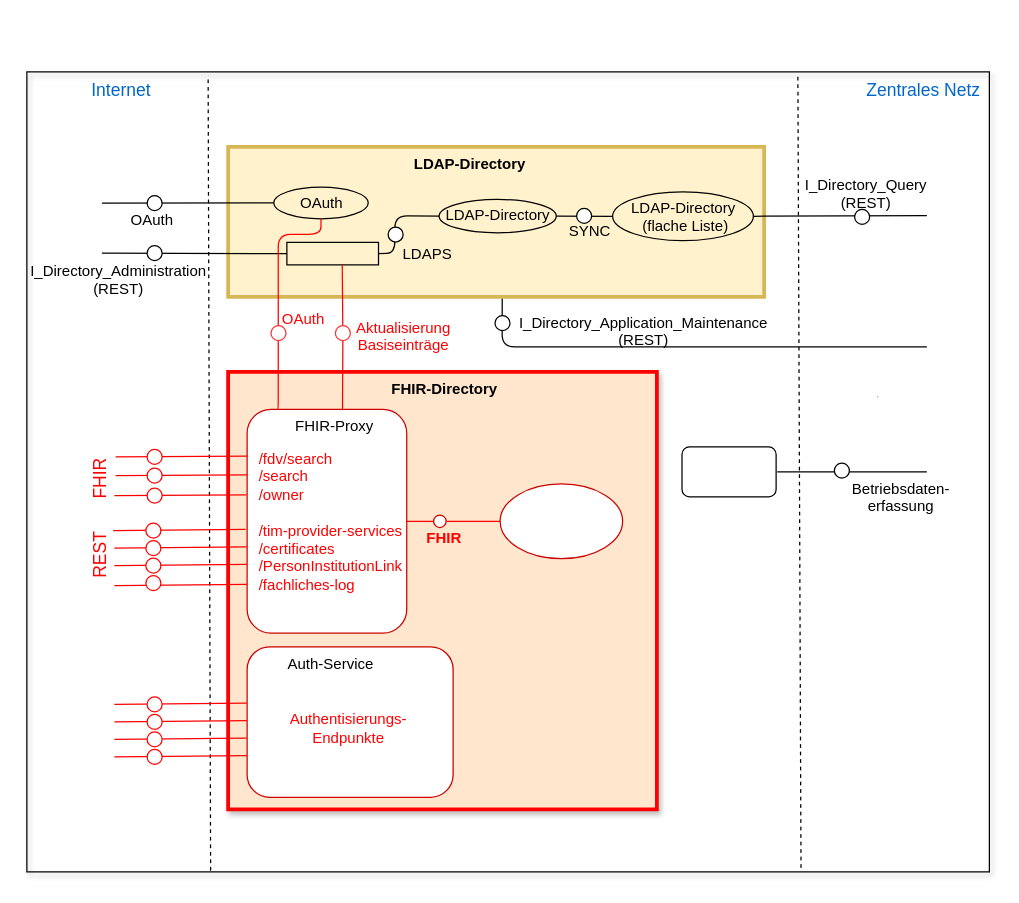
Some shapes in this 1019 by 903 pixel diagram are drawn without their labels. The centre of each missing label's shape, as x and y in pixels:
BDE-Client: the point at 728,471
FHIR Directory: the point at 561,521
VZD-Service: the point at 332,253
